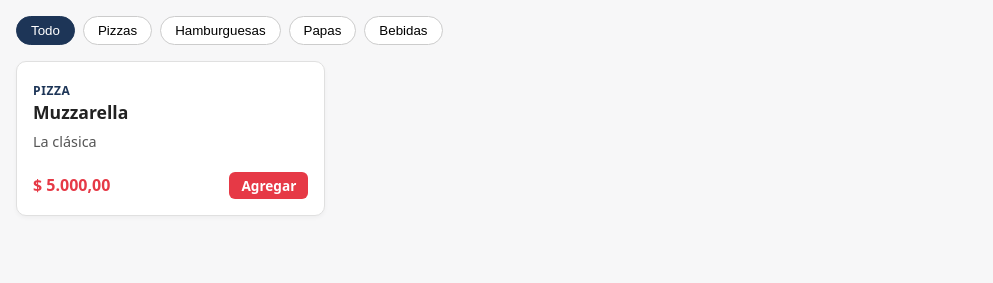
Test: <CatalogPage> › con sesión, muestra error si agregar falla
The width and height of the screenshot is (993, 283).
Click the button "Agregar": [269, 185] box [229,172,308,199]
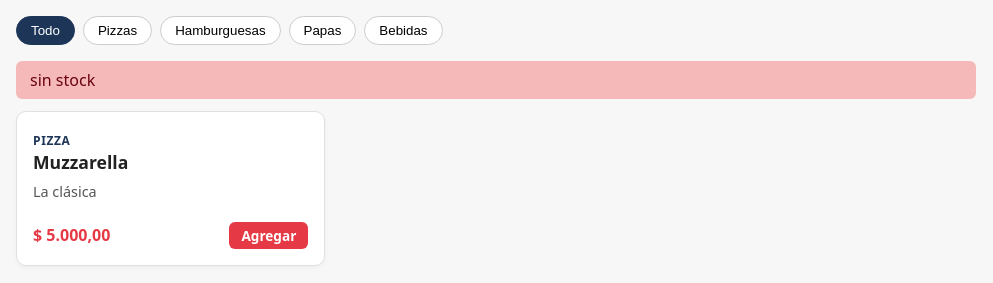
Result: the text "sin stock" is shown at [16,61,976,99]
